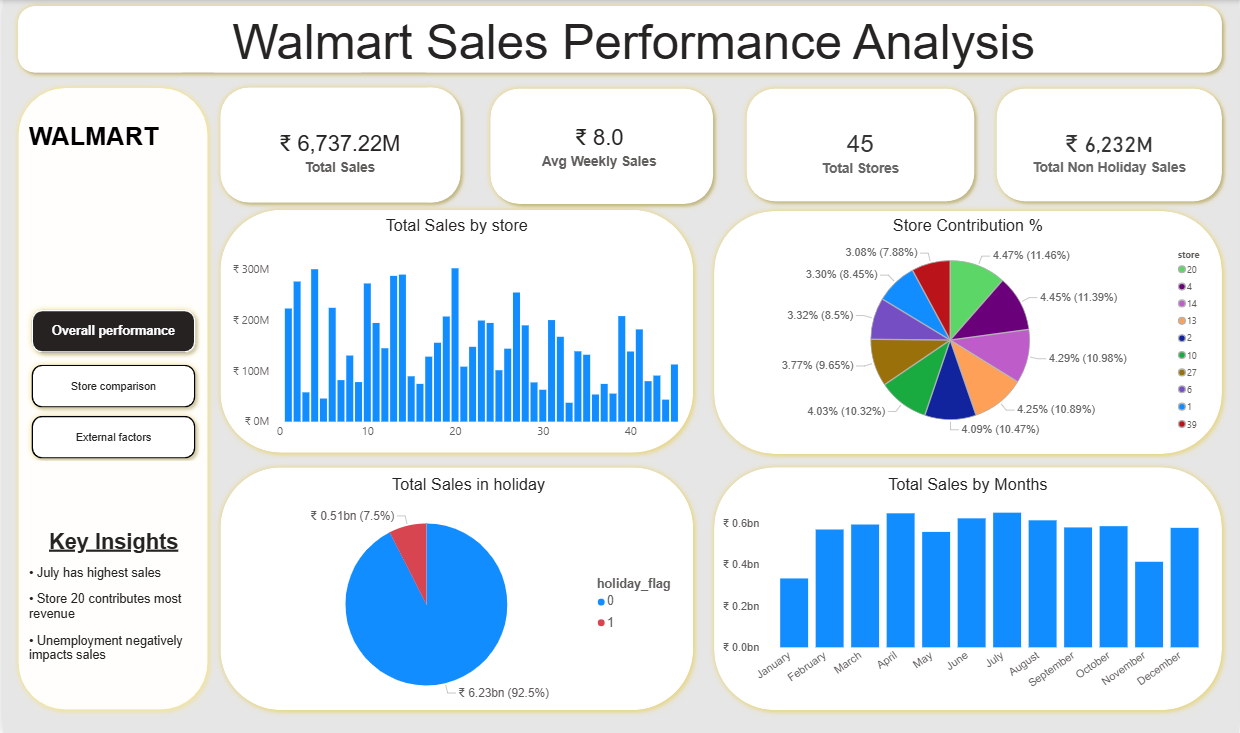

The dashboard page shown, as its layout file describes it:
{"tool":"powerbi","page":{"name":"Overall performance","canvas":[1820,1080],"ordinal":0},"visuals":[{"type":"shape","box":[12.9,0,1790.8,116],"z":0},{"type":"shape","box":[311,119.6,371.8,187.7],"z":1000},{"type":"shape","box":[311,300,714.1,375.5],"z":2000},{"type":"shape","box":[1454,121.5,349.7,184.1],"z":3000},{"type":"shape","box":[1085.9,121.5,353.4,184.1],"z":4000},{"type":"shape","box":[708.6,121.5,346,187.7],"z":5000},{"type":"shape","box":[1038,679.1,765.6,375.5],"z":6000},{"type":"shape","box":[311,679.1,714.1,375.5],"z":7000},{"type":"shape","box":[1038,301.8,765.6,375.5],"z":8000},{"type":"textbox","box":[40.5,16.6,1730.1,99.4],"z":9000},{"type":"card","fields":{"Values":["walmart.Total Sales"]},"box":[368.1,147.2,255.8,149.1],"z":10000},{"type":"card","fields":{"Values":["walmart.Avg Weekly Sales"]},"box":[752.8,138,250.3,150.9],"z":11000},{"type":"advanceCardE03760C5AB684758B56AA29F9E6C257B","fields":{"mainMeasure":["walmart.Total Stores"]},"box":[1135.6,147.2,254,152.8],"z":12000},{"type":"advanceCardE03760C5AB684758B56AA29F9E6C257B","fields":{"mainMeasure":["walmart.Total Non Holiday Sales"]},"box":[1501.8,149.1,254,150.9],"z":13000},{"type":"columnChart","fields":{"Category":["walmart.store"],"Y":["walmart.Total Sales"]},"box":[333.1,318.4,669.9,338.7],"z":14000},{"type":"clusteredColumnChart","title":"Total Sales by Months","fields":{"Category":["months.Column1"],"Y":["walmart.Total Sales"]},"box":[1054.6,699.4,732.5,335],"z":15000},{"type":"pieChart","title":"Store Contribution % ","fields":{"Y":["walmart.Store Contribution %"],"Category":["walmart.store"]},"box":[1054.6,318.4,732.5,338.7],"z":16000},{"type":"pieChart","title":"Total Sales in holiday","fields":{"Category":["walmart.holiday_flag"],"Y":["walmart.Total Sales"]},"box":[368.1,699.4,635,355.2],"z":17000},{"type":"shape","box":[12.9,119.6,298.2,935],"z":18000},{"type":"pageNavigator","box":[33.1,447.2,259.5,231.9],"z":19000},{"type":"textbox","box":[33.1,174.8,259.5,75.5],"z":20000},{"type":"textbox","box":[33.1,756.4,259.5,277.9],"z":21000}]}

Visuals, with their boxes in screenshot pixels (x1, y1, x2, y2), scaled from the page's 1820x1080 canvas onto the 1240x733 screenshot:
shape: l=9, t=0, r=1229, b=79
shape: l=212, t=81, r=465, b=209
shape: l=212, t=204, r=698, b=458
shape: l=991, t=82, r=1229, b=207
shape: l=740, t=82, r=981, b=207
shape: l=483, t=82, r=719, b=210
shape: l=707, t=461, r=1229, b=716
shape: l=212, t=461, r=698, b=716
shape: l=707, t=205, r=1229, b=460
textbox: l=28, t=11, r=1206, b=79
card - walmart.Total Sales: l=251, t=100, r=425, b=201
card - walmart.Avg Weekly Sales: l=513, t=94, r=683, b=196
advanceCardE03760C5AB684758B56AA29F9E6C257B - walmart.Total Stores: l=774, t=100, r=947, b=204
advanceCardE03760C5AB684758B56AA29F9E6C257B - walmart.Total Non Holiday Sales: l=1023, t=101, r=1196, b=204
columnChart - walmart.store x walmart.Total Sales: l=227, t=216, r=683, b=446
"Total Sales by Months" clusteredColumnChart: l=719, t=475, r=1218, b=702
"Store Contribution % " pieChart: l=719, t=216, r=1218, b=446
"Total Sales in holiday" pieChart: l=251, t=475, r=683, b=716
shape: l=9, t=81, r=212, b=716
pageNavigator: l=23, t=304, r=199, b=461
textbox: l=23, t=119, r=199, b=170
textbox: l=23, t=513, r=199, b=702
